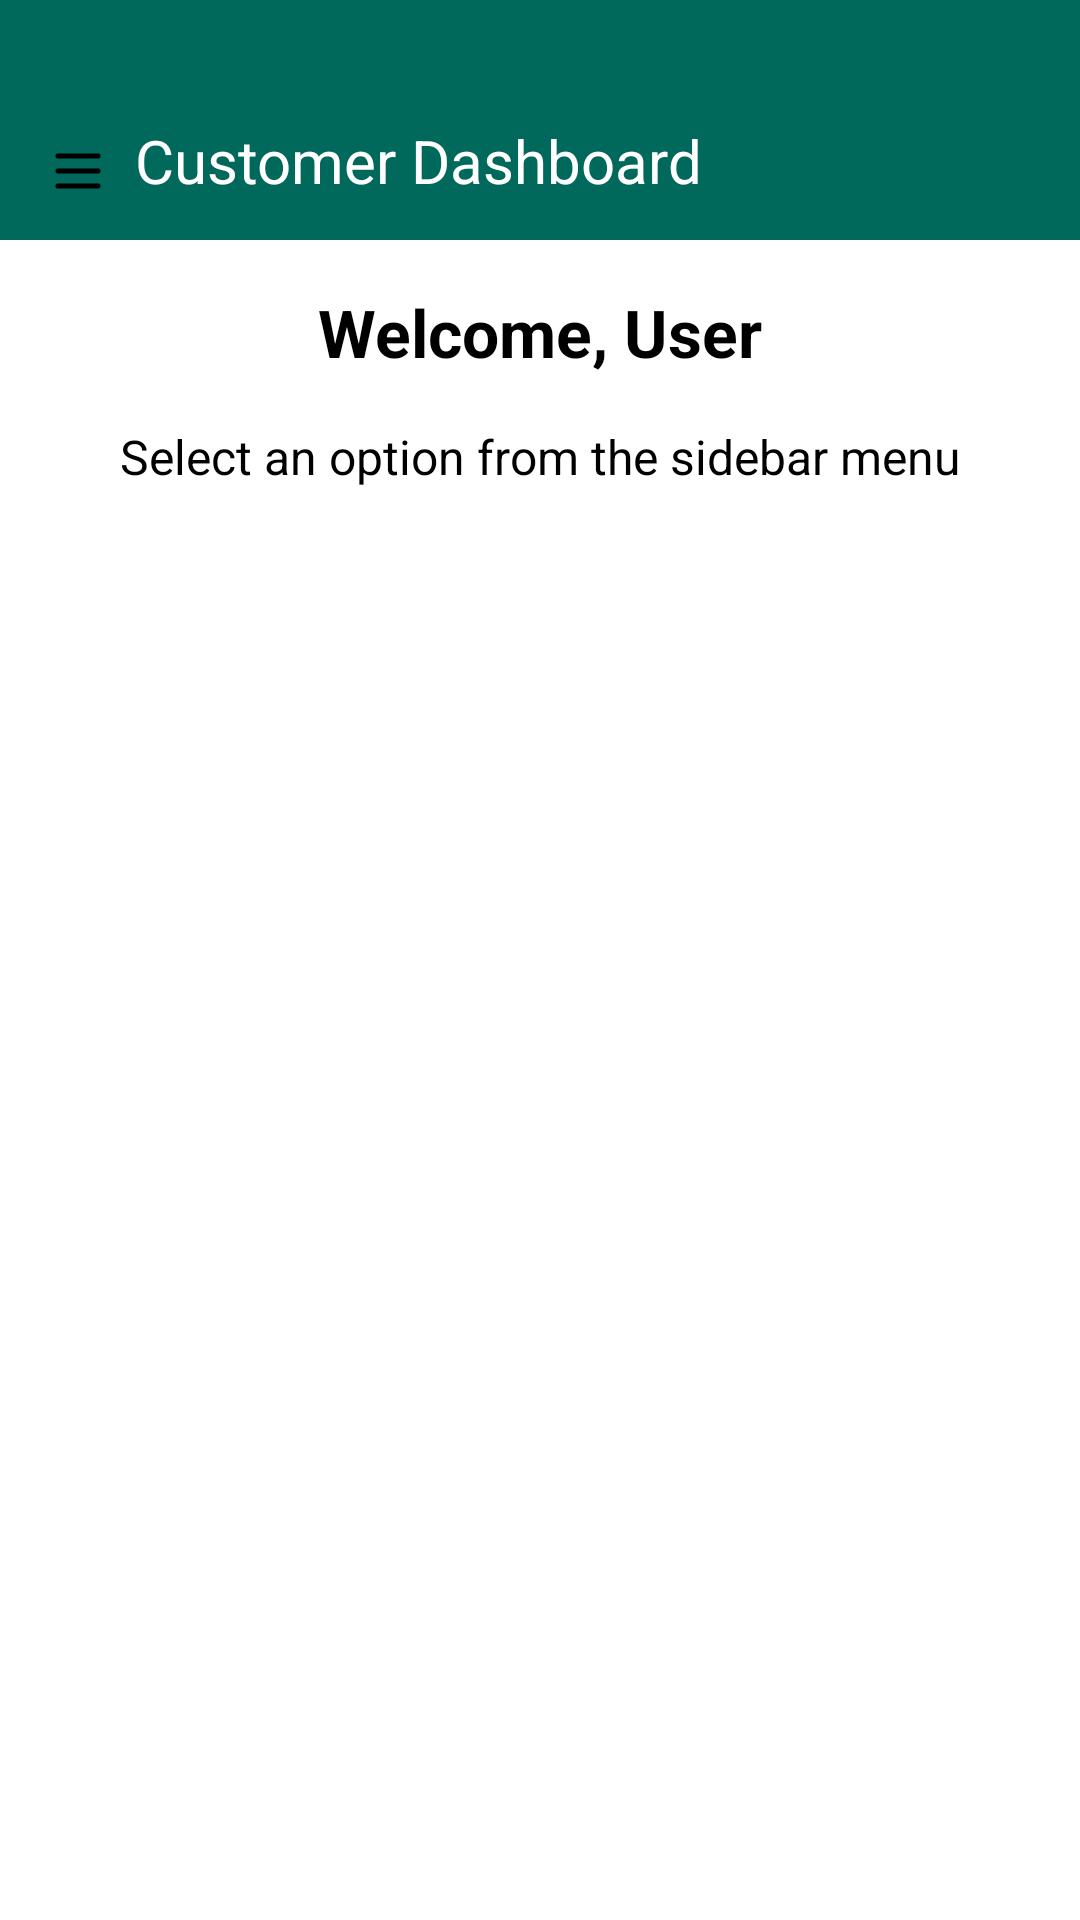

Icon bounding boxes for this 1080px x 1920px phone screenshot, format [x1=x1, y1=y1, x2=x2, y2=y2]:
Menu: [x1=55, y1=153, x2=101, y2=189]
